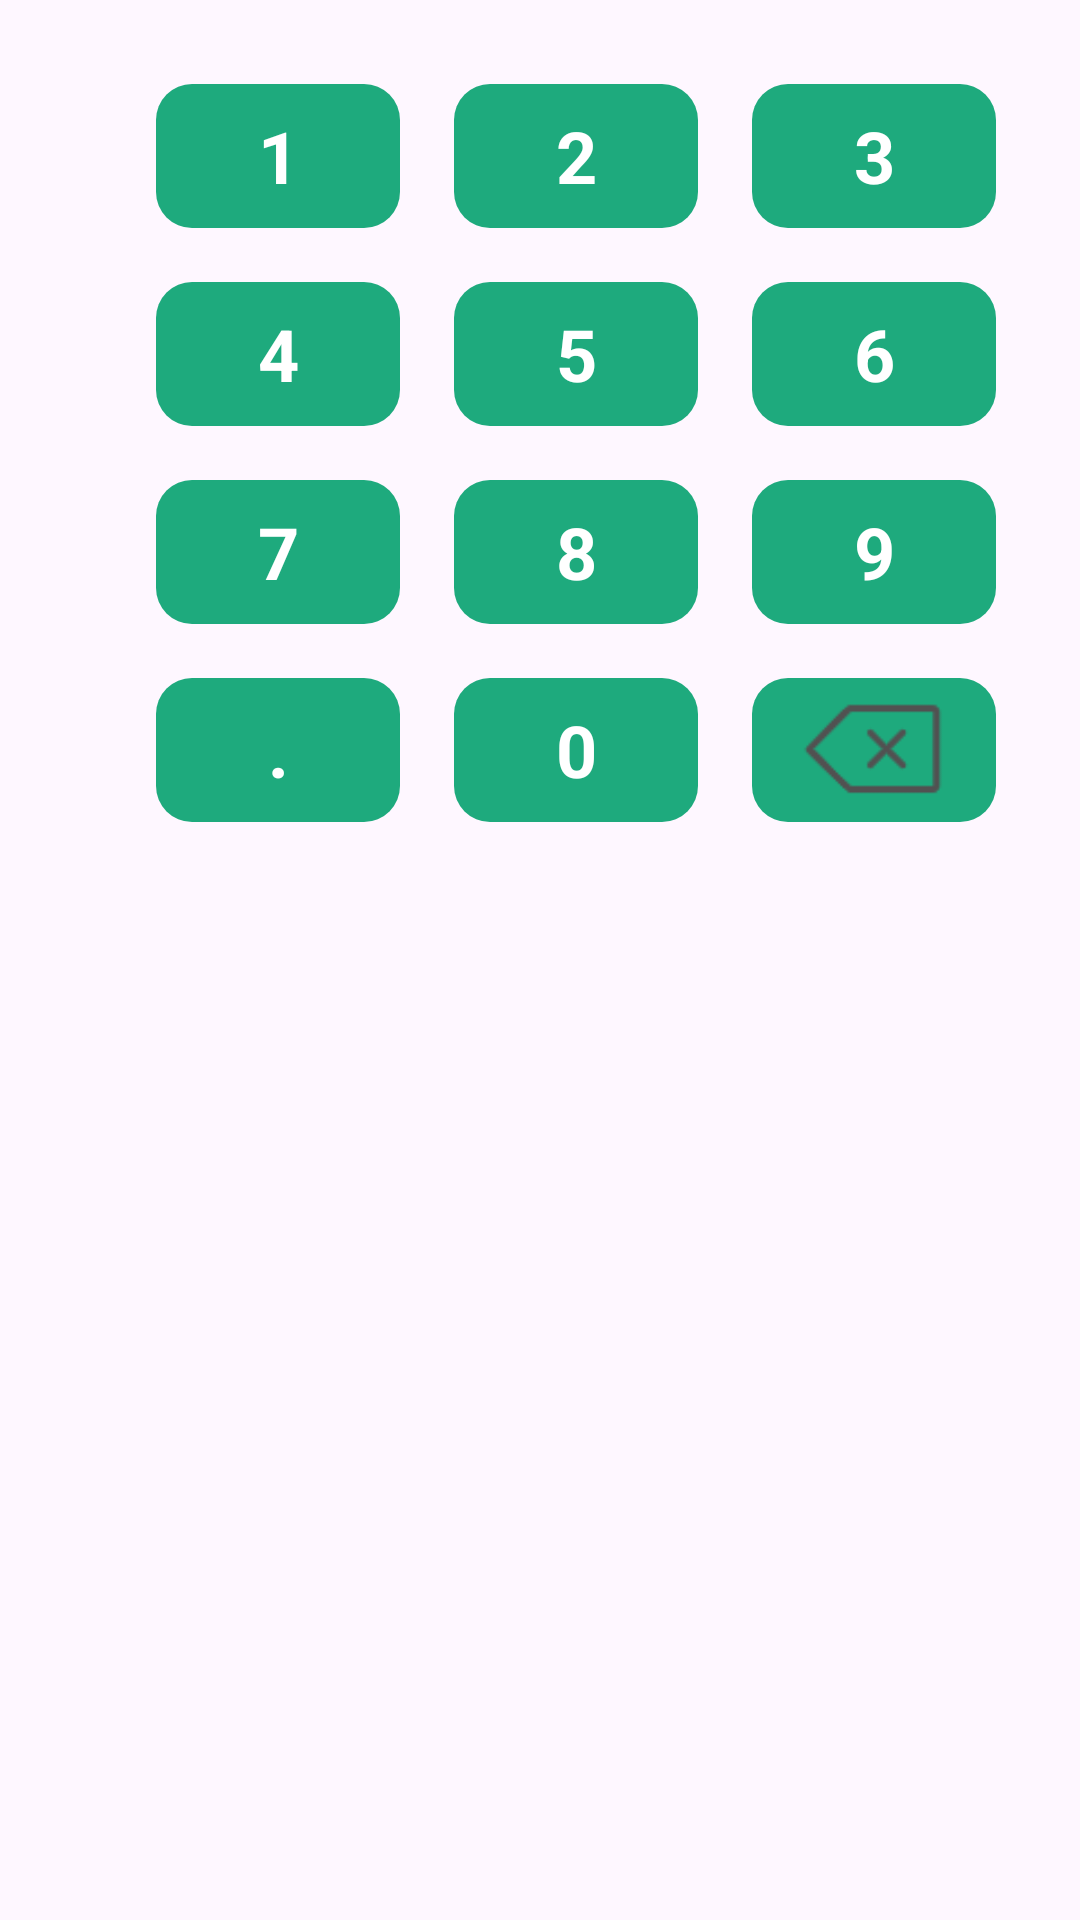

Named icons in this screenshot (1080px x 1920px) and their centers, (x,y):
delete: (874,750)
